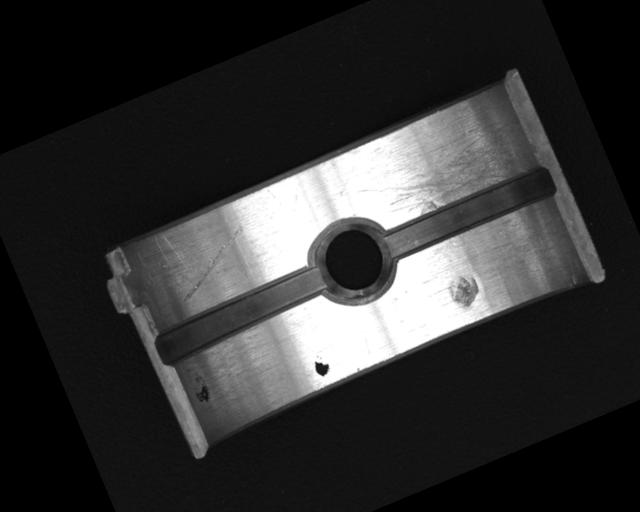blot: (186, 370, 214, 407), (309, 351, 333, 379)
bruise: (443, 269, 486, 313)
gap: (148, 258, 337, 370), (377, 161, 558, 266)
hole: (301, 207, 406, 314)
nick: (163, 223, 263, 305)
scratch: (347, 103, 530, 234)
